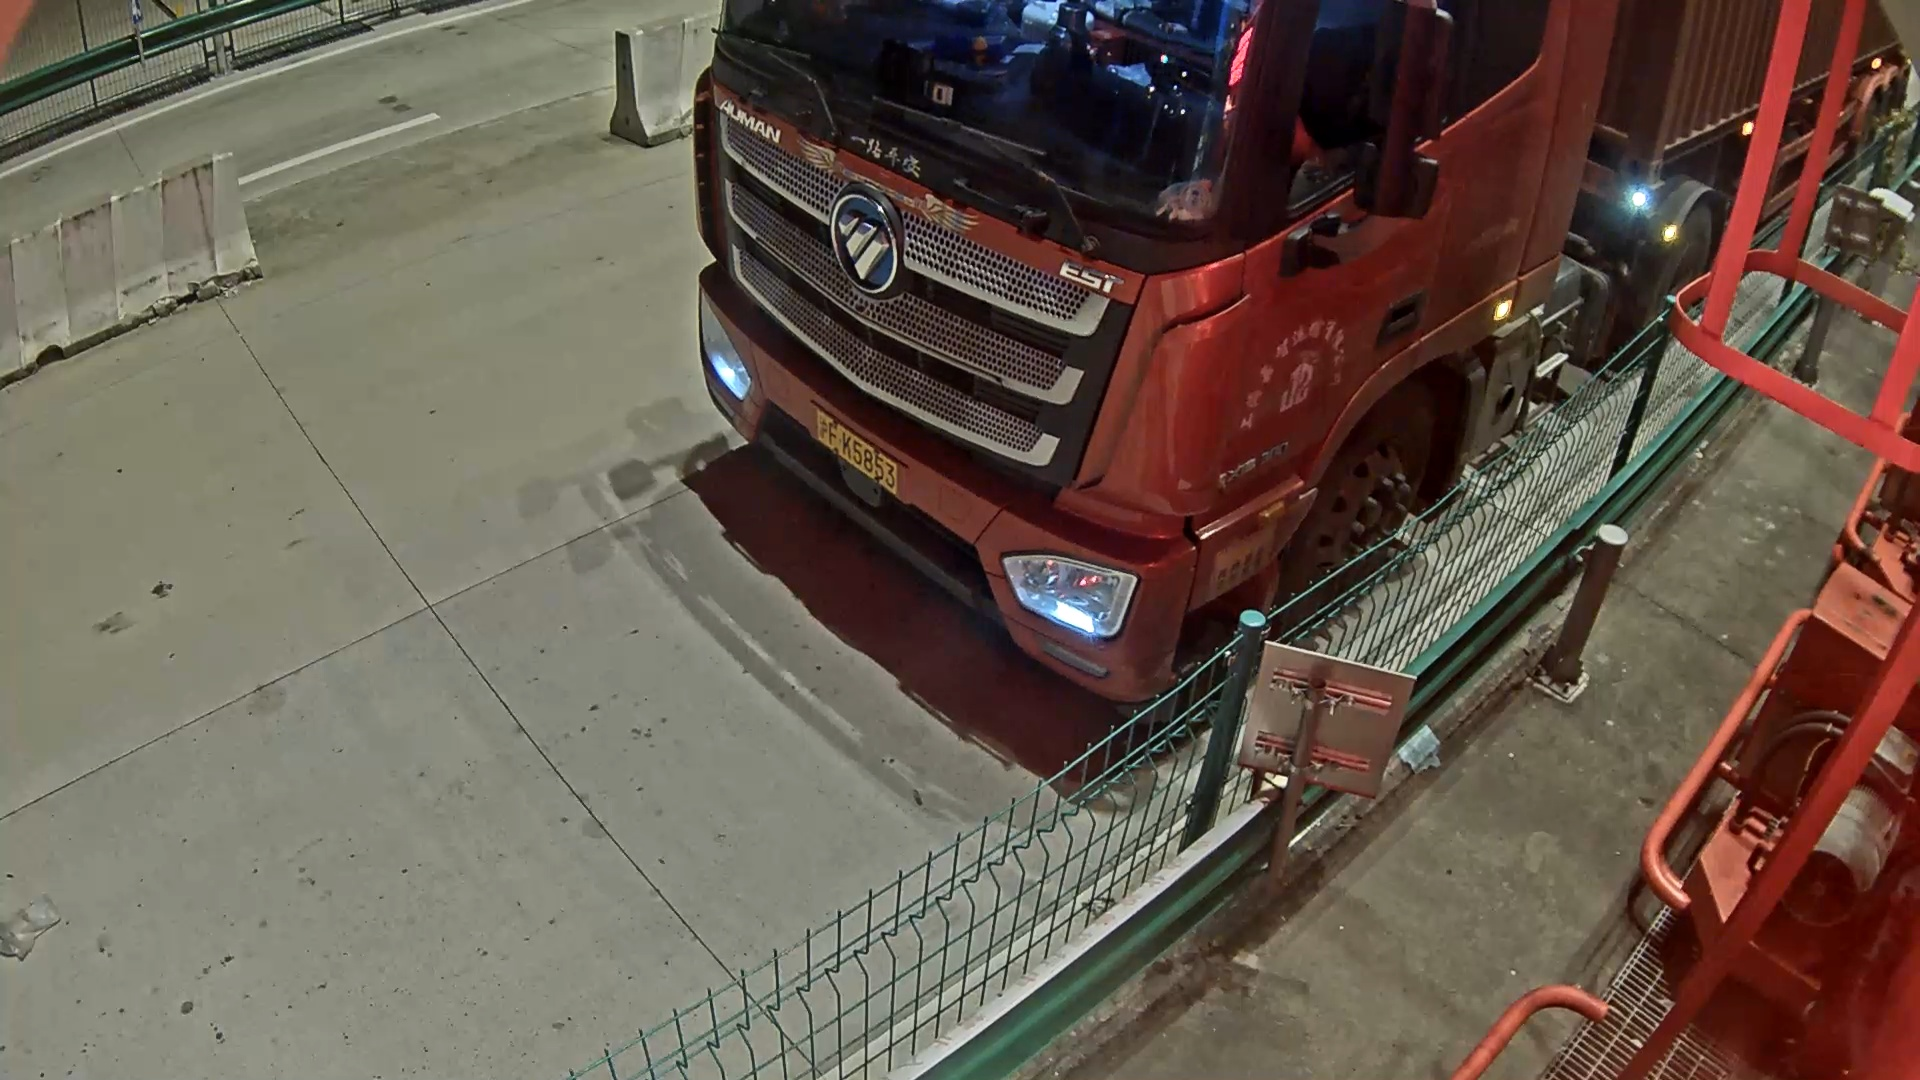head: (697, 1, 1599, 695)
plate: (815, 402, 896, 492)
